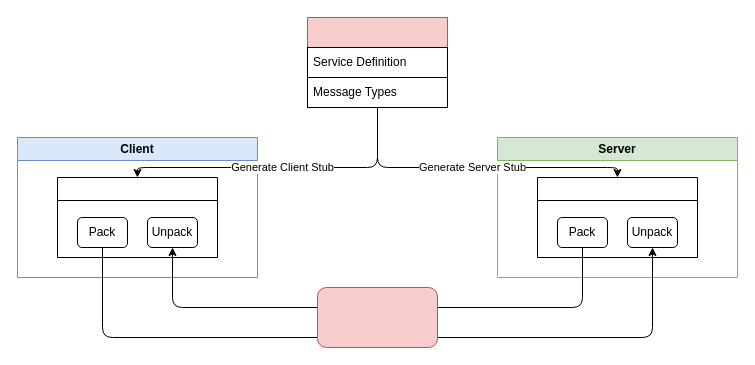
Image size: 755x365. Some labels were removed from this diagram. Each missing label, with the box of its shape:
Client gRPC Stub: (56, 176, 218, 258)
Protocol Buffers: (306, 16, 448, 108)
Protocol Buffers over HTTP/2: (316, 286, 438, 348)
Server gRPC Stub: (536, 176, 698, 258)
